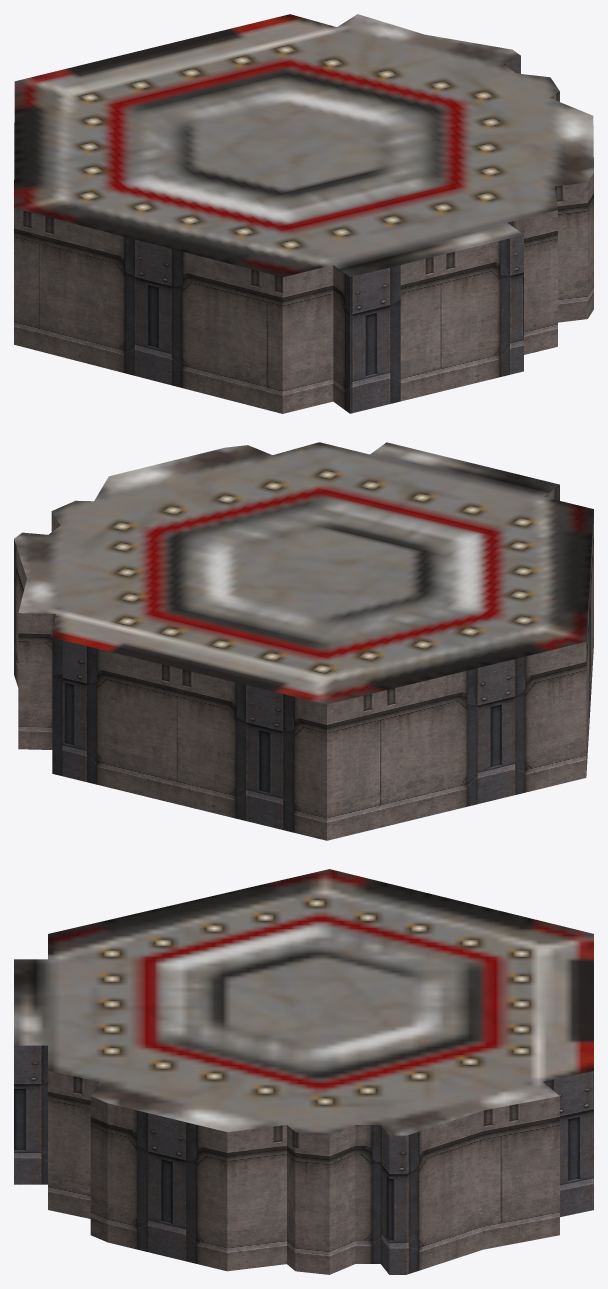
File: bsealed_hard_14.glb
3 views of the same model, one above another, from view 1: azimuth 30°, elevation 25°; view 2: azimuth 150°, elevation 25°; view 3: azimuth 270°, elevation 25° (orthographic). The views are drawn at different scales.
Visible parts, largest first — view 1: buildings/saxarba/bsealed_hard/bsealed_hard_14; view 2: buildings/saxarba/bsealed_hard/bsealed_hard_14; view 3: buildings/saxarba/bsealed_hard/bsealed_hard_14.
Boxes of the visible parts, bbox=[...] form: buildings/saxarba/bsealed_hard/bsealed_hard_14: bbox=[14, 14, 593, 413]; buildings/saxarba/bsealed_hard/bsealed_hard_14: bbox=[14, 442, 593, 840]; buildings/saxarba/bsealed_hard/bsealed_hard_14: bbox=[14, 869, 593, 1274].
Size of the model in its own units: 74 by 18 by 68.
